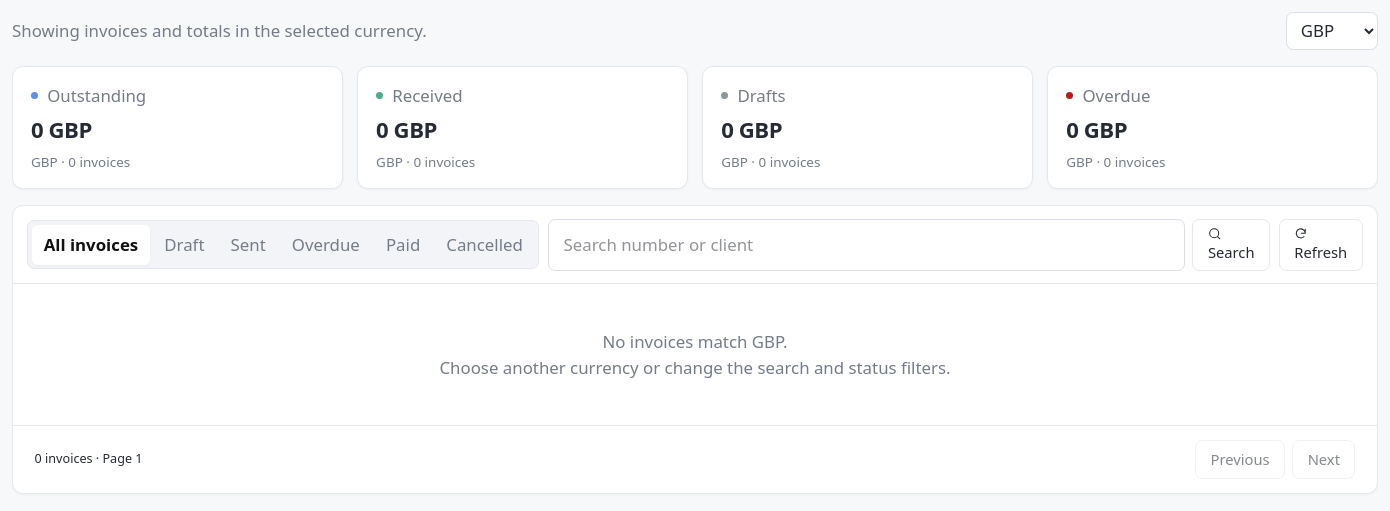
Scenario: starts with the preferred currency and explains a currency-filtered empty list
Expected: the text "No invoices match GBP." is shown, [602,330,788,353]
Select "EUR" in the dropdown named "Summary currency" at (1332, 31), box [1286,12,1378,50]
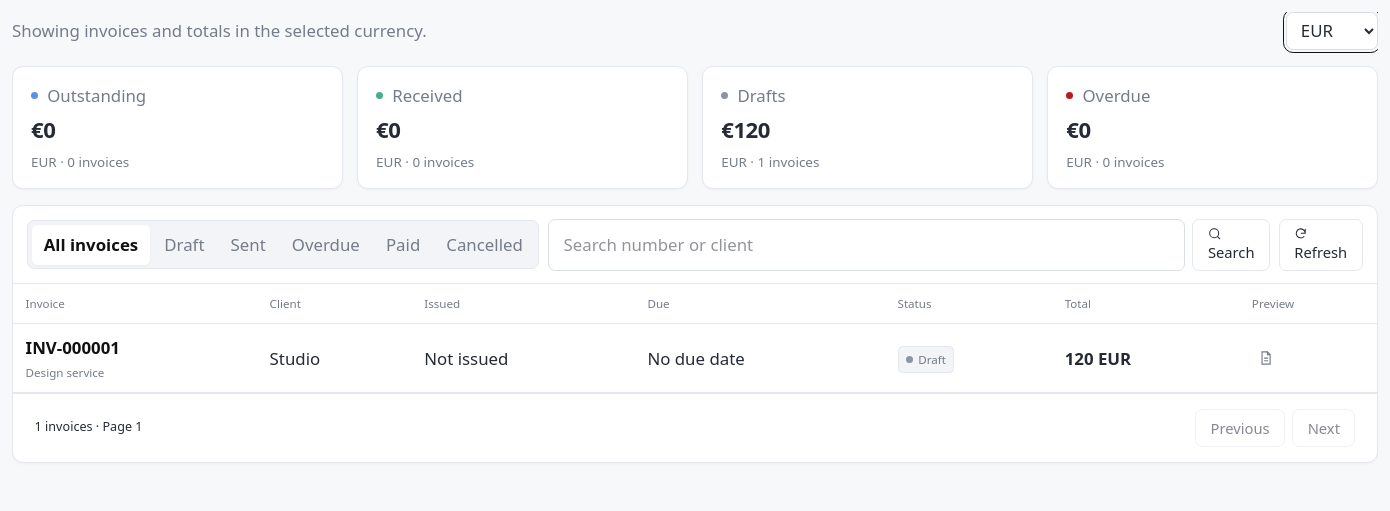
Now the button "INV-000001" is shown, box [26,335,120,360]
